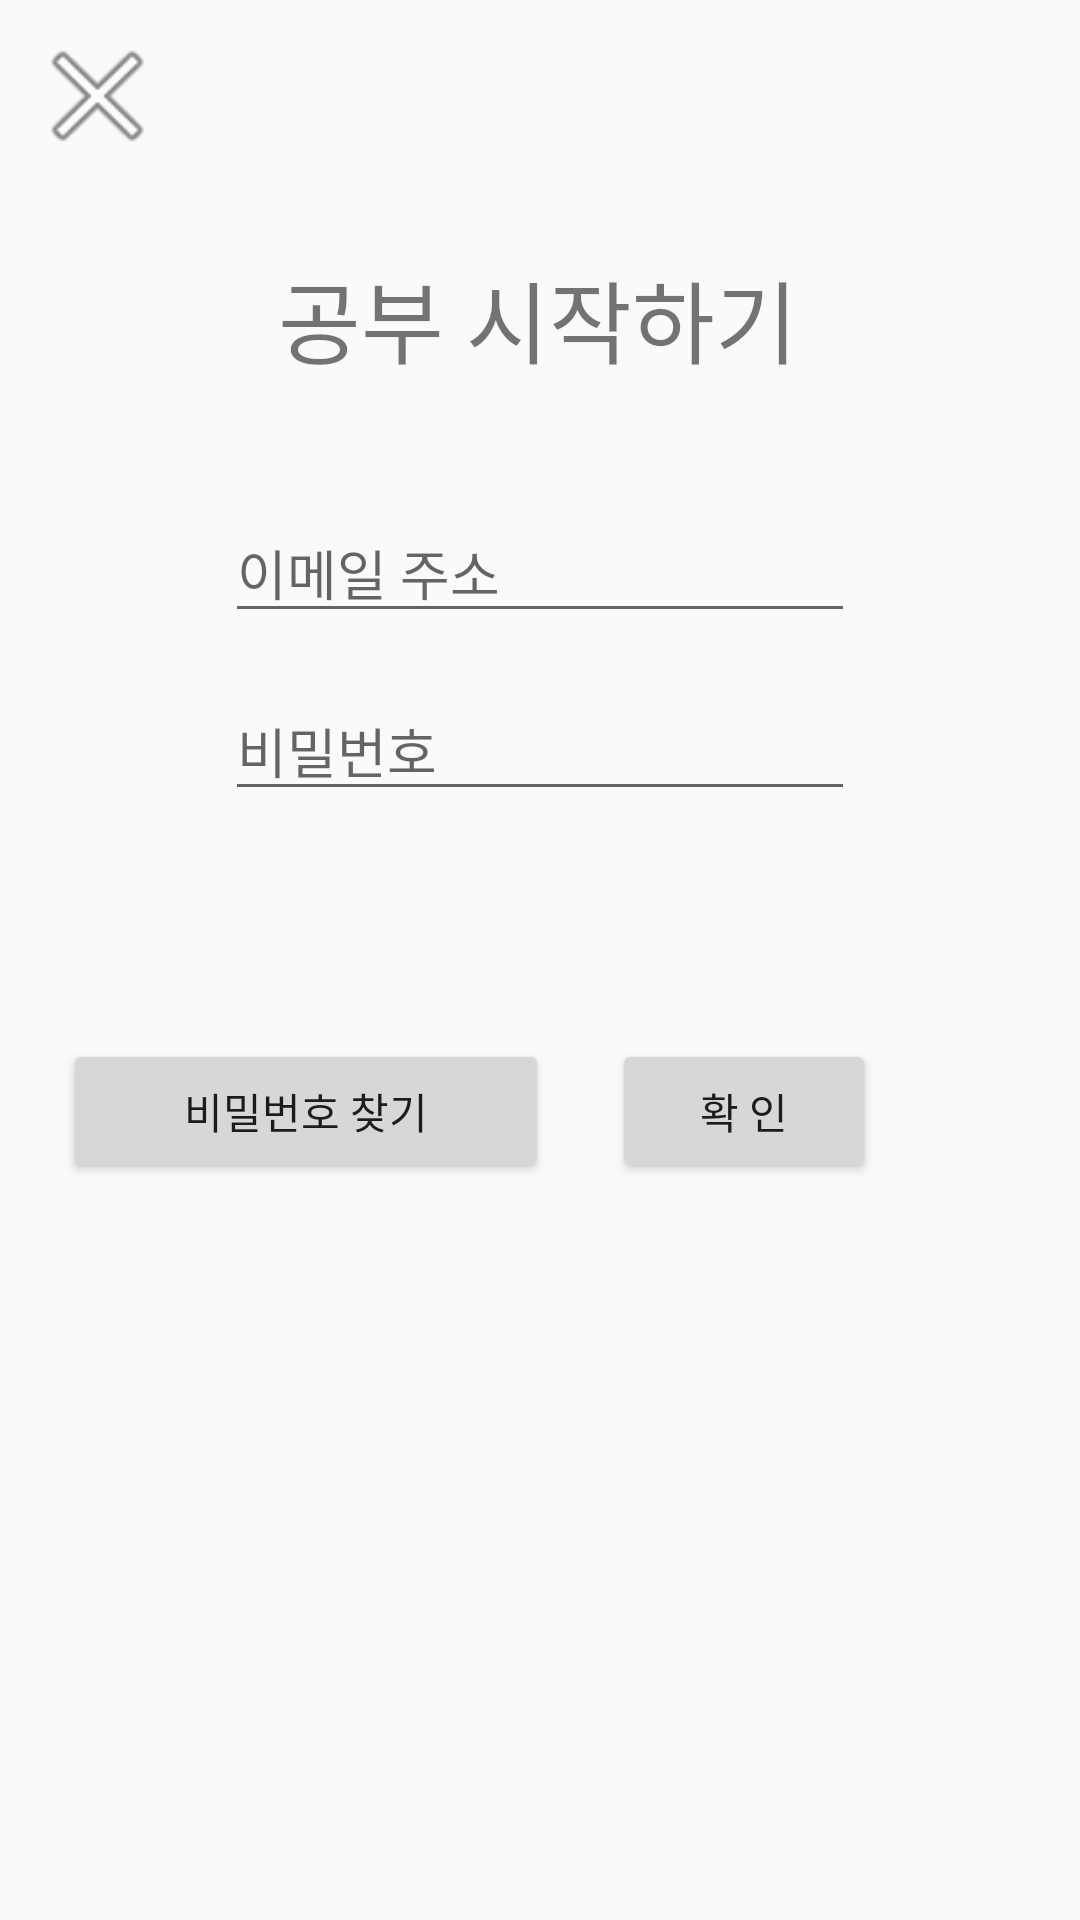

Icons on this 1080x1920 Android screen, each with the point to tap as [x,y]:
close clear cancel: [97,96]
